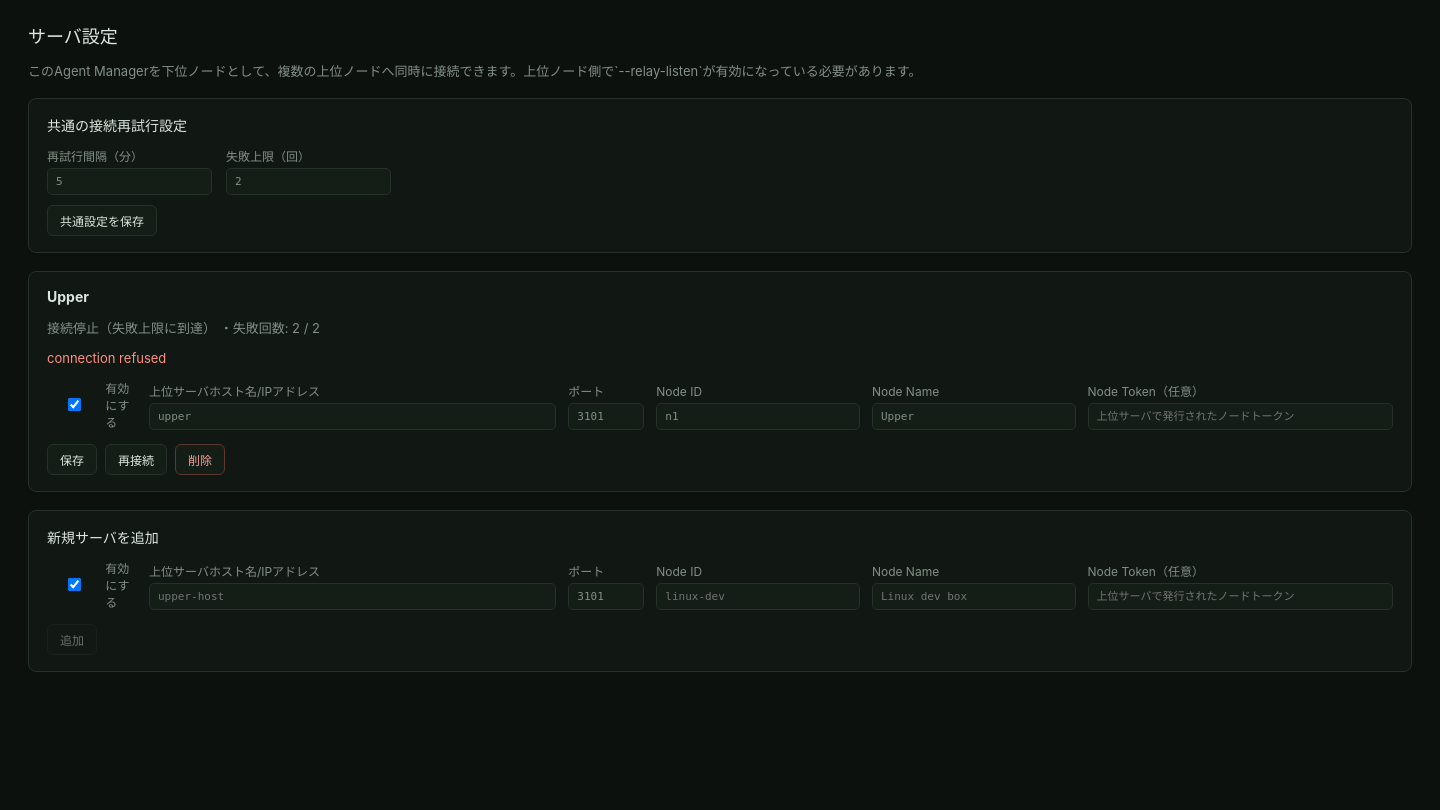
Test: ServerSettingsView (ADR-009 upstream connections, multi-server) › reconnects a server after its failure limit stops automatic attempts
Step 1. Click the button "再接続" → x=136, y=460, box [105,444,167,475]
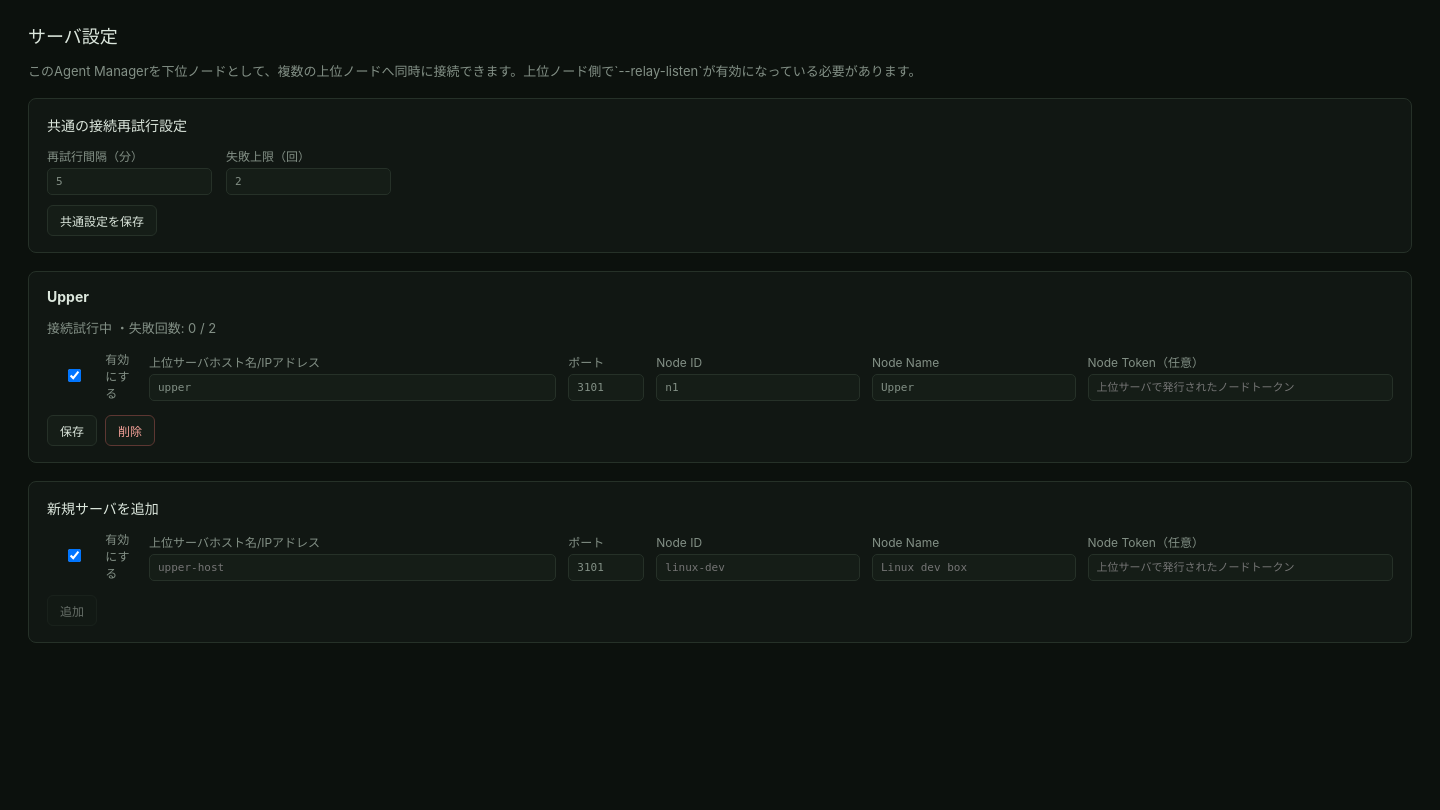
Expected: the text "接続試行中" is shown, [47,320,112,336]
